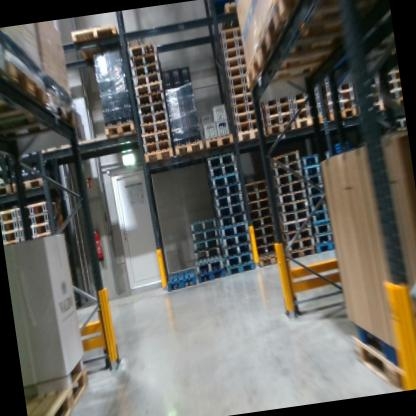pallet: (248, 0, 372, 71), (237, 23, 362, 89), (349, 323, 416, 395), (0, 86, 78, 146), (23, 362, 97, 416), (0, 55, 53, 116), (66, 17, 129, 61), (268, 0, 373, 26), (99, 115, 137, 148), (160, 264, 200, 295), (10, 173, 62, 195), (132, 105, 171, 131), (296, 147, 335, 172), (213, 0, 246, 29), (191, 252, 224, 280), (174, 135, 205, 163), (139, 119, 174, 141), (199, 151, 236, 171), (269, 171, 306, 191), (278, 215, 313, 236), (323, 106, 366, 123), (217, 226, 250, 248), (365, 61, 398, 83), (216, 219, 252, 239), (265, 150, 301, 170), (275, 189, 309, 210), (191, 234, 222, 257), (143, 145, 174, 168), (239, 176, 271, 198), (137, 130, 174, 149), (209, 183, 244, 203), (133, 100, 169, 119), (204, 129, 235, 151), (23, 207, 57, 227), (131, 67, 163, 88), (276, 226, 313, 244), (275, 208, 310, 227), (210, 193, 244, 212), (262, 90, 294, 110), (370, 88, 402, 108), (219, 242, 254, 260), (273, 179, 306, 198), (218, 25, 249, 45), (275, 198, 309, 216), (244, 194, 273, 215), (130, 79, 162, 98), (195, 264, 225, 284), (204, 172, 241, 188), (192, 242, 223, 261), (223, 259, 257, 276), (220, 249, 254, 266), (264, 119, 298, 136), (223, 80, 259, 96), (224, 91, 260, 107), (232, 130, 268, 146), (322, 90, 354, 108), (25, 219, 55, 238), (190, 225, 220, 244), (0, 29, 12, 76), (135, 90, 170, 106), (229, 119, 264, 135), (259, 112, 294, 128), (219, 32, 250, 50), (261, 99, 293, 116), (204, 164, 240, 179), (271, 161, 301, 179), (220, 53, 250, 71), (191, 215, 219, 234), (214, 202, 247, 218), (127, 52, 160, 68), (323, 101, 358, 116), (218, 212, 247, 230), (312, 238, 339, 257), (283, 235, 315, 251), (298, 161, 330, 177), (250, 232, 280, 249), (253, 251, 283, 268), (21, 200, 52, 216), (130, 63, 161, 79), (141, 140, 174, 155), (367, 80, 400, 95), (310, 230, 336, 249), (291, 86, 320, 103), (241, 187, 271, 203), (221, 71, 253, 86), (249, 213, 277, 230), (127, 42, 161, 56), (252, 241, 281, 257), (222, 64, 251, 79), (245, 205, 275, 219), (226, 103, 258, 116), (322, 78, 354, 91), (221, 44, 248, 59), (0, 215, 22, 233), (294, 109, 322, 123), (301, 172, 331, 185), (309, 220, 333, 236), (302, 182, 329, 196), (385, 117, 406, 135), (294, 118, 323, 131), (292, 99, 318, 113), (228, 112, 261, 123), (2, 228, 24, 244), (284, 246, 316, 257), (303, 192, 330, 205), (306, 200, 331, 214), (307, 211, 332, 225), (250, 225, 278, 237), (0, 206, 20, 221), (0, 181, 14, 198)
